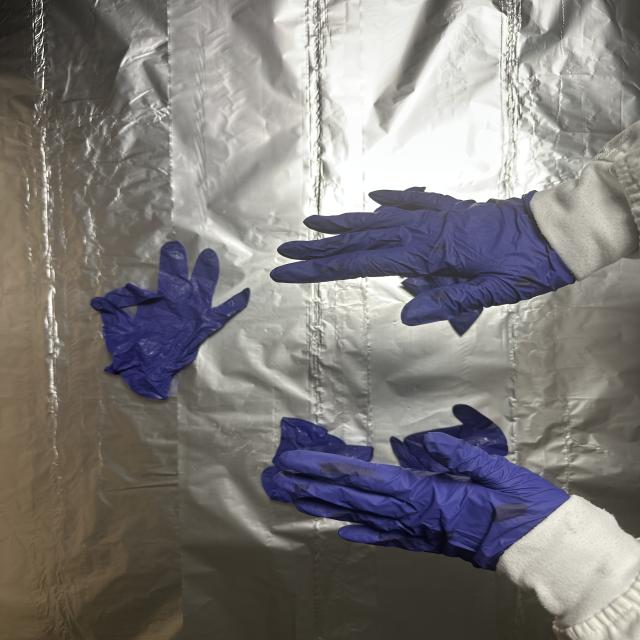gloves_contaminated: (271, 191, 575, 325), (275, 433, 568, 569)
